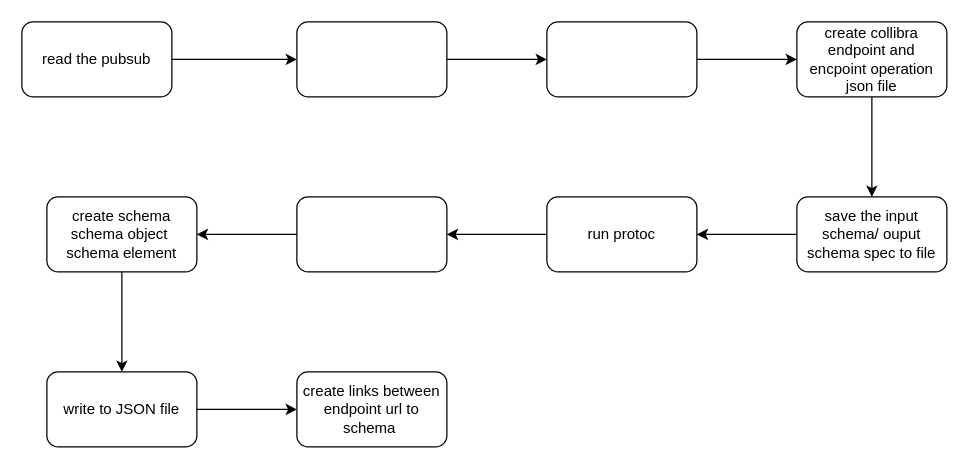
This 969x469 diagram has some shape labels left out. Each missing label, with the box of its shape:
assign attributes to collibra end point and enpoint operation: (546, 21, 697, 97)
load message to apientry py class: (296, 21, 447, 97)
parse the protoc outfile: (296, 196, 447, 272)
